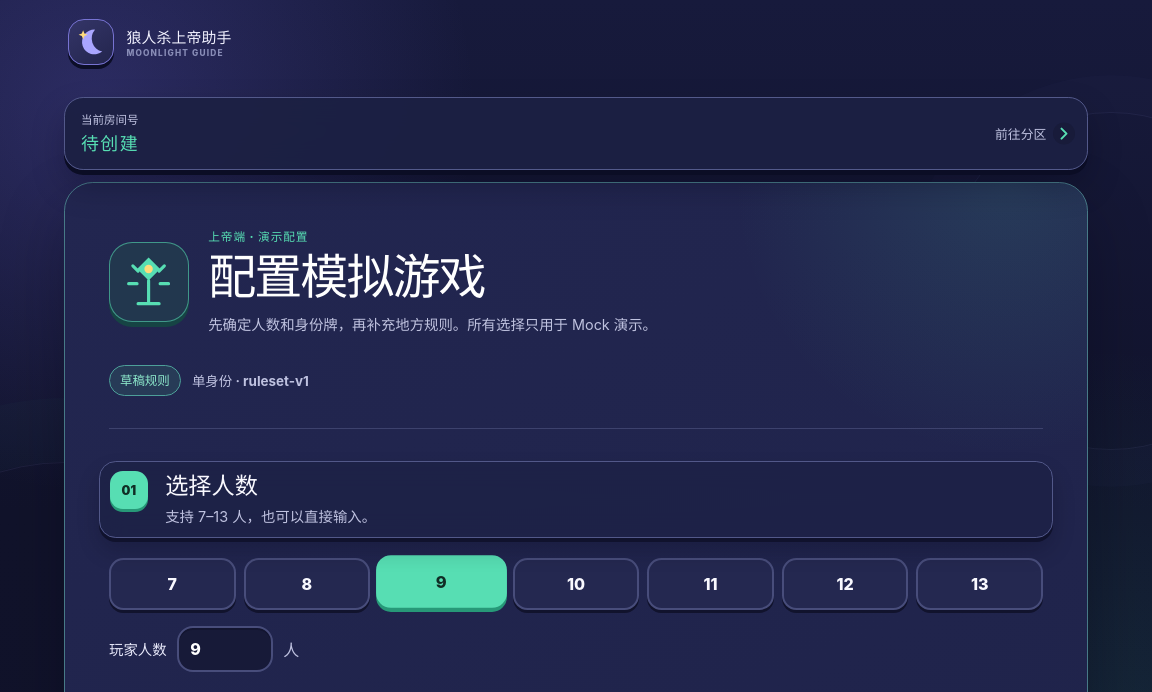
Test: 上帝 Mock 流程 › 置顶导航显示房间状态并可展开分区入口
Expected: the heading "配置模拟游戏" is shown, [208,247,485,306]
Click the button "当前房间号 待创建 前往分区" at (110, 120), box [65,98,1087,169]
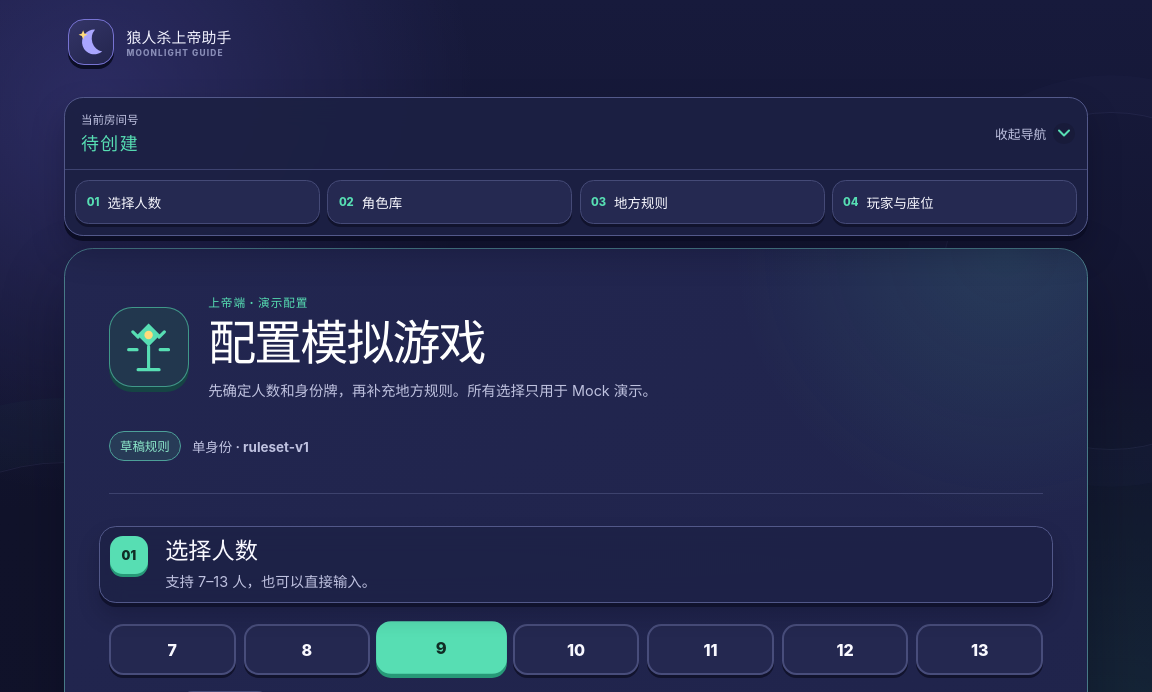
Expected: the button "当前房间号 待创建 收起导航" is expanded, [65,98,1087,169]
Expected: the button "02 角色库" is shown, [328,180,572,224]
Expected: the button "04 玩家与座位" is shown, [832,180,1077,224]
